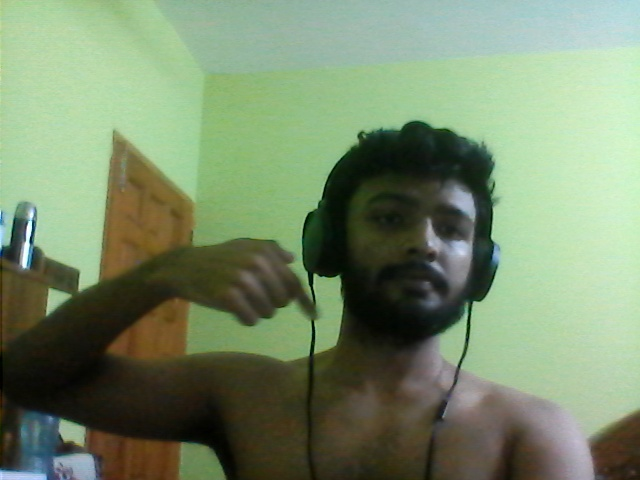I: (166, 227, 318, 335)
